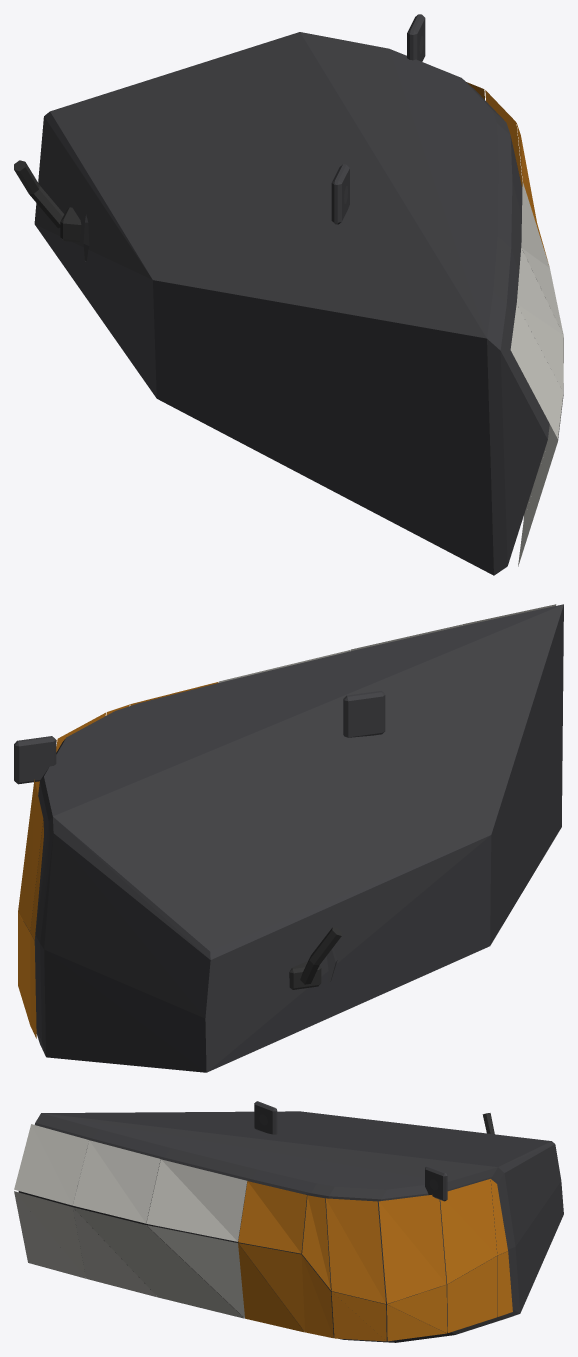
The model's file is item-headlight.glb.
3 renders of one model, top to bottom at view 1: azimuth 30°, elevation 25°; view 2: azimuth 150°, elevation 25°; view 3: azimuth 270°, elevation 25°, orthographic. The views are drawn at different scales.
Parts seen in each view (by area): view 1: headlight; view 2: headlight; view 3: headlight.
Boxes of the visible parts, bbox=[...] form: headlight: bbox=[14, 14, 563, 575]; headlight: bbox=[14, 604, 563, 1072]; headlight: bbox=[14, 1101, 563, 1342].
Size of the model in its own units: 0.2711 by 0.1683 by 0.4987.
